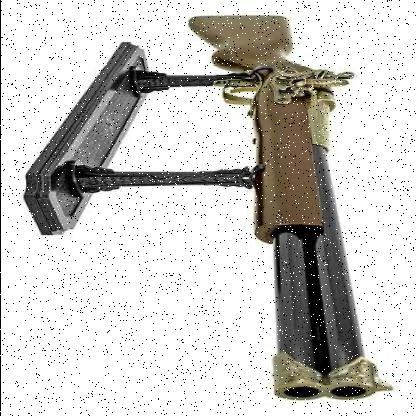rifle: (173, 6, 411, 407)
